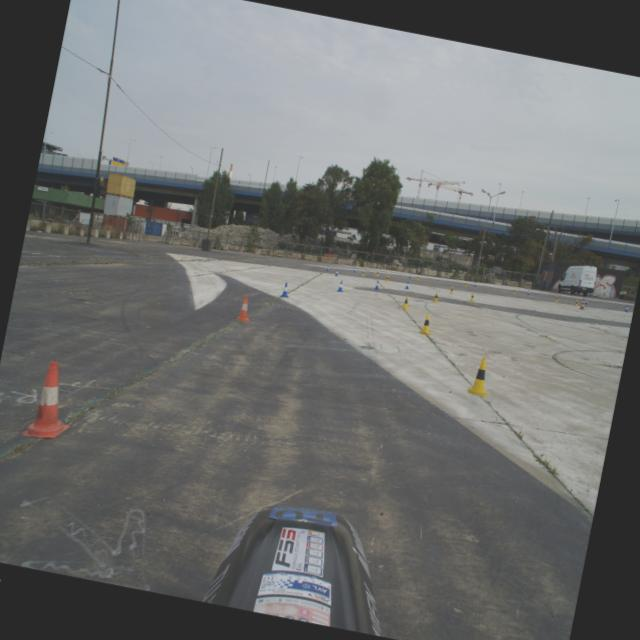blue_cone: (280, 282, 292, 298), (337, 280, 345, 292), (374, 280, 381, 290), (405, 281, 410, 290), (334, 270, 340, 276), (624, 306, 630, 312), (352, 267, 357, 272), (326, 266, 330, 272), (526, 290, 530, 296), (584, 299, 588, 305), (408, 274, 412, 279), (474, 282, 476, 287)
large_orange_cone: (579, 298, 587, 310)
orange_cone: (18, 356, 82, 444), (235, 294, 255, 323)
yellow_cone: (468, 357, 493, 398), (418, 313, 434, 336), (402, 294, 412, 310), (432, 292, 440, 302), (469, 292, 476, 302), (554, 296, 560, 302), (385, 275, 390, 282), (450, 286, 454, 294), (574, 300, 579, 306), (361, 270, 365, 276), (512, 288, 516, 294), (376, 271, 380, 276), (416, 276, 420, 280), (464, 282, 468, 286)
